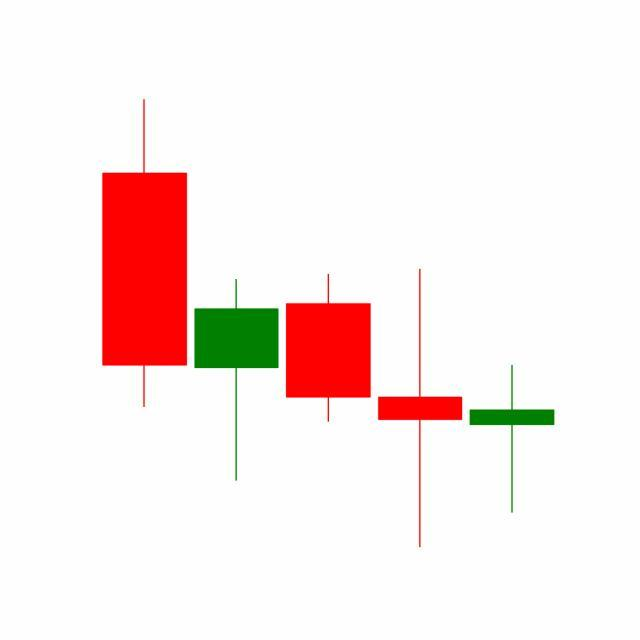Three Outside Up-Down: (190, 265, 467, 548)
